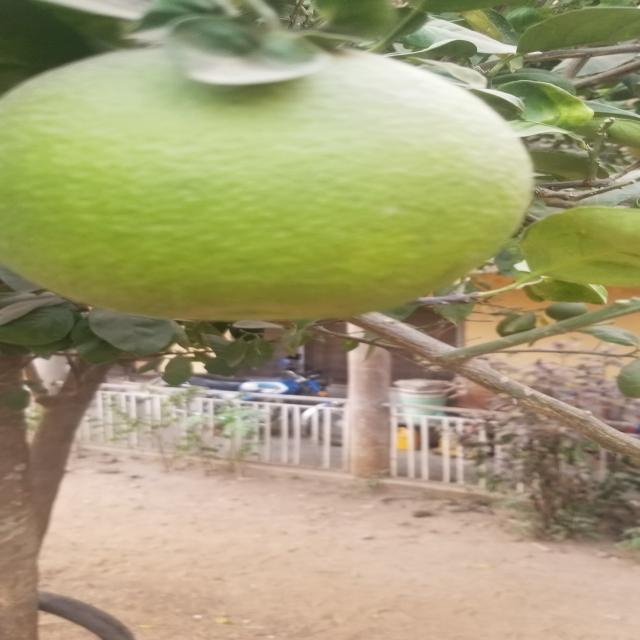Unripe: (7, 49, 506, 318), (532, 213, 640, 284)
